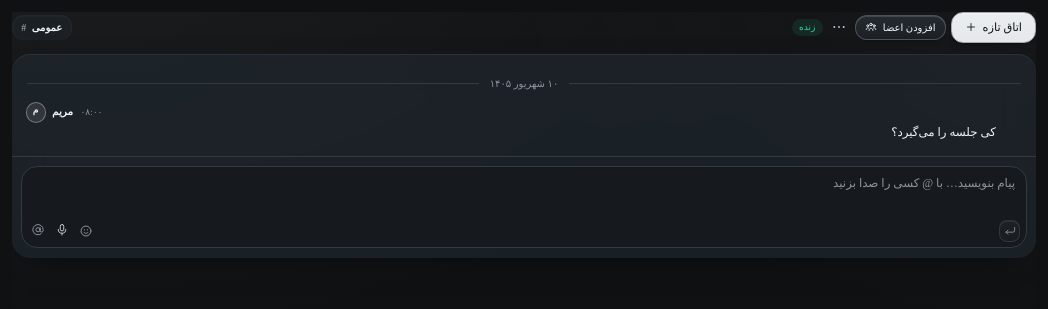
Test: answering a message › puts the quote BACK when the send is refused
Right-click the text "کی جلسه را می‌گیرد؟": (944, 132) [891,124,996,138]
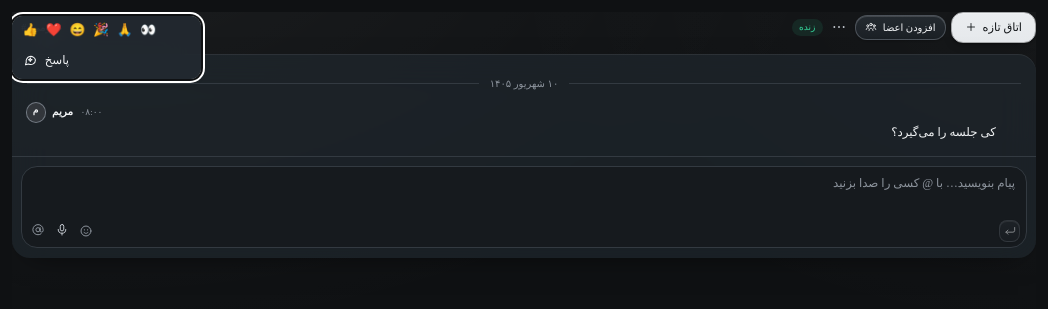
Click the menu item "پاسخ": click(46, 60) [23,52,69,68]
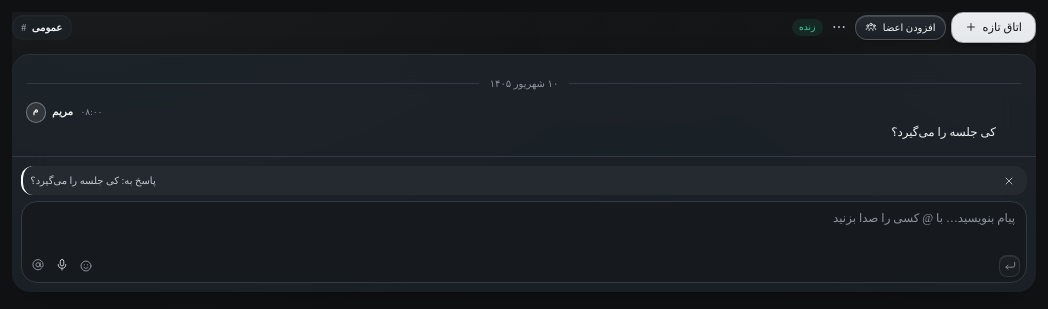
Expected: the text "پاسخ به: کی جلسه را می‌گیرد؟" is shown, [30,175,156,186]
In the text box with placeholder "پیام بنویسید… با @ کسی را صدا بزنید": (524, 225) [22,202,1026,248], type "من می‌گیرم"
Then press Enter
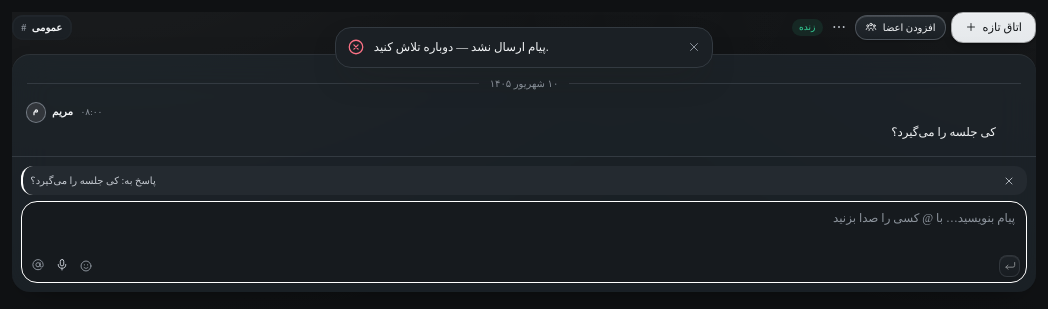
Expected: the text "پاسخ به: کی جلسه را می‌گیرد؟" is shown, [30,175,156,186]
Expected: the message "پیام ارسال نشد — دوباره تلاش کنید." is shown, [335,26,713,68]
